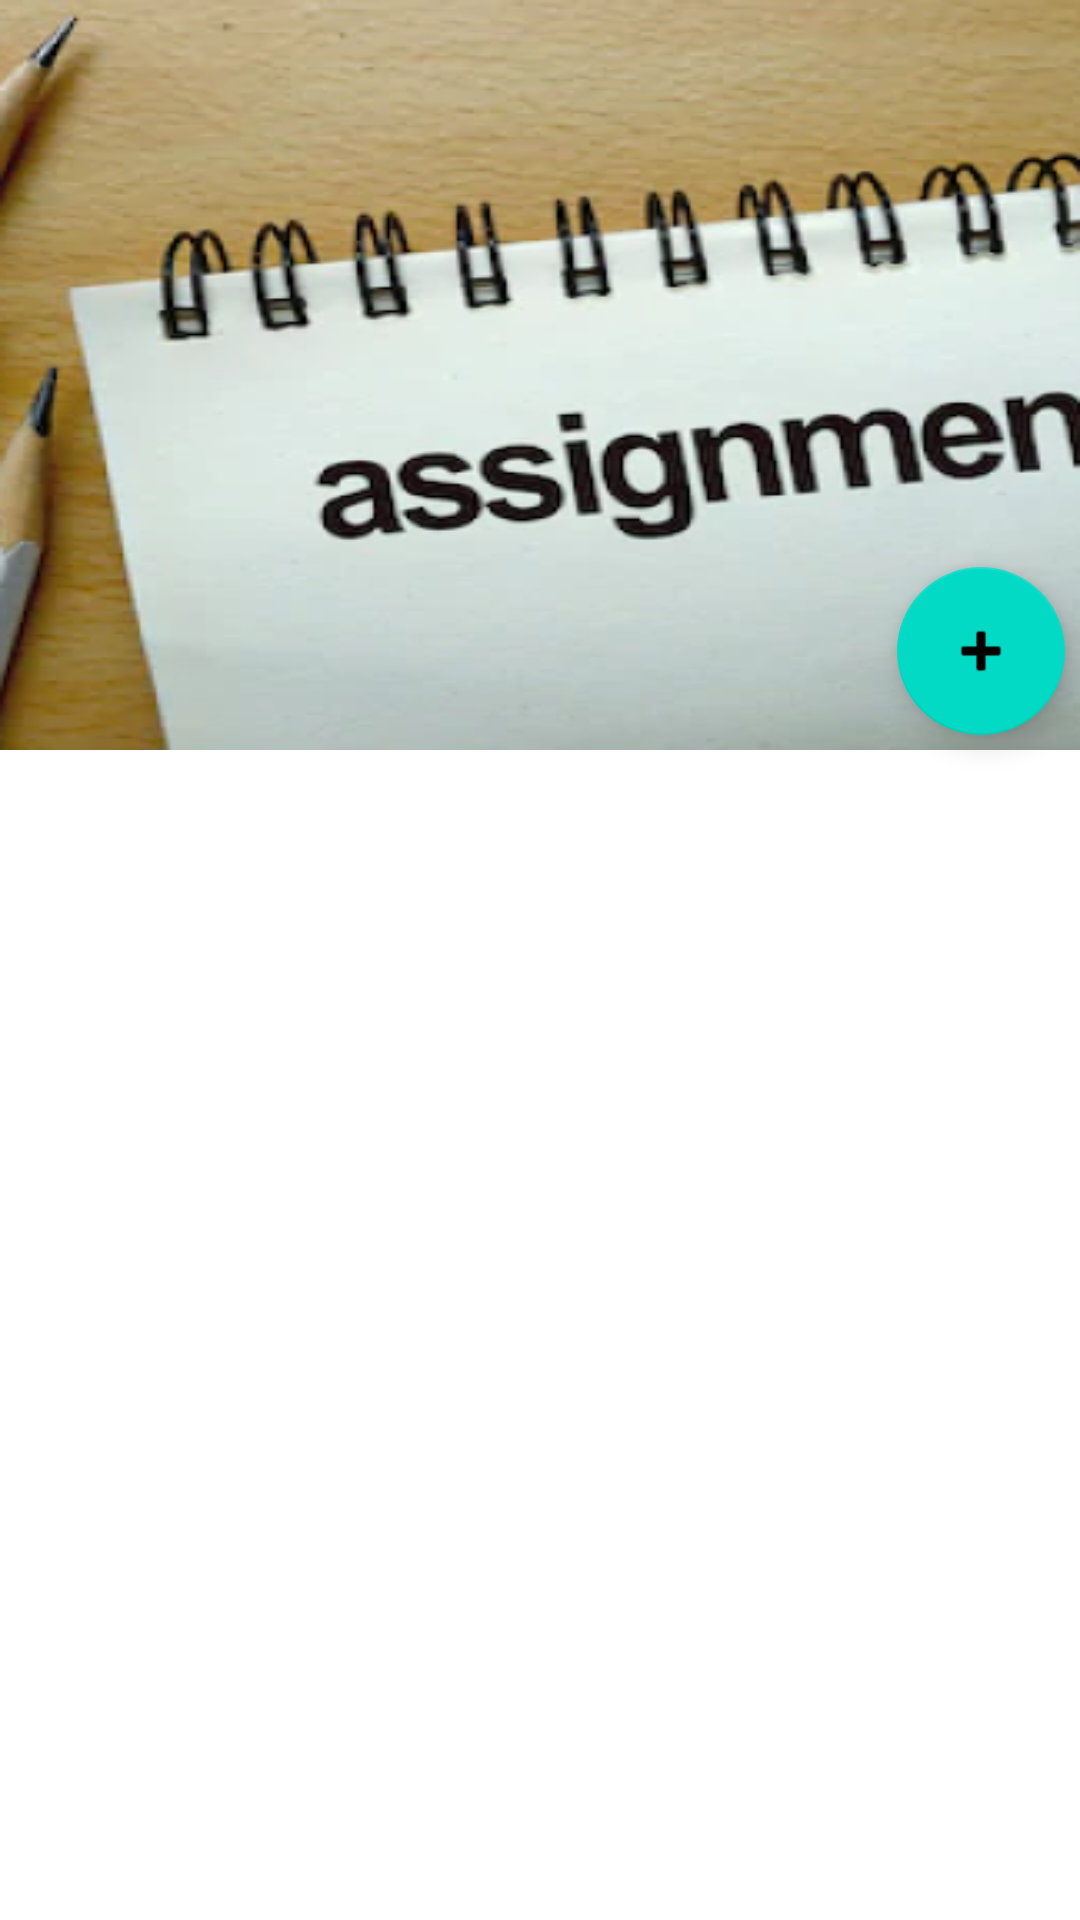

Named icons in this screenshot (1080*1920) and their centers, (x,y):
add: (981,651)
